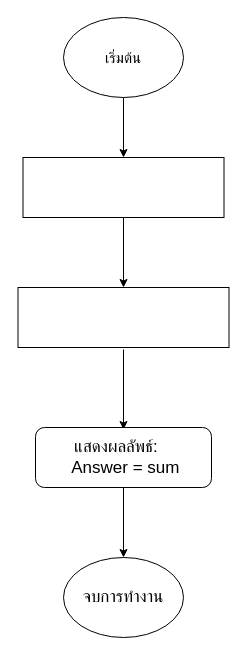
This 246x655 diagram has some shape labels left out. The centre of each missing label's shape, as x and y in pixels:
คำนวณผลรวม sum = num1 + num2 + num3: point 123,317
รับค่าตัวเลข 3 ค่า num1 num2 num3: point 123,187
